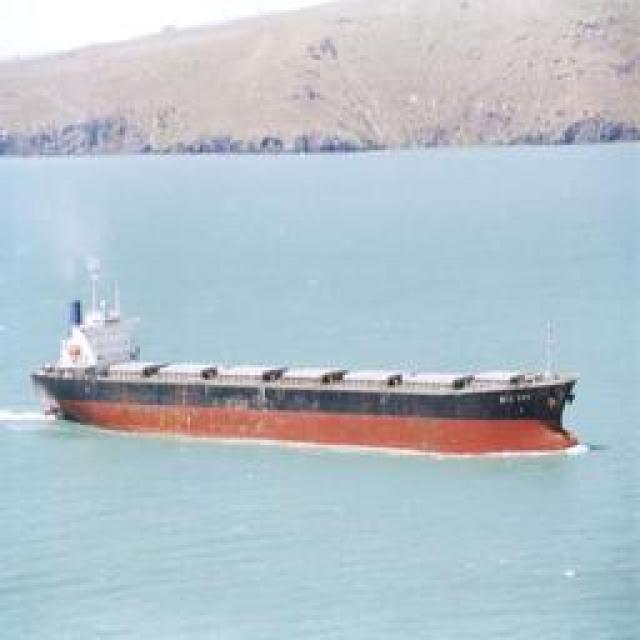ship2: (30, 255, 590, 461)
